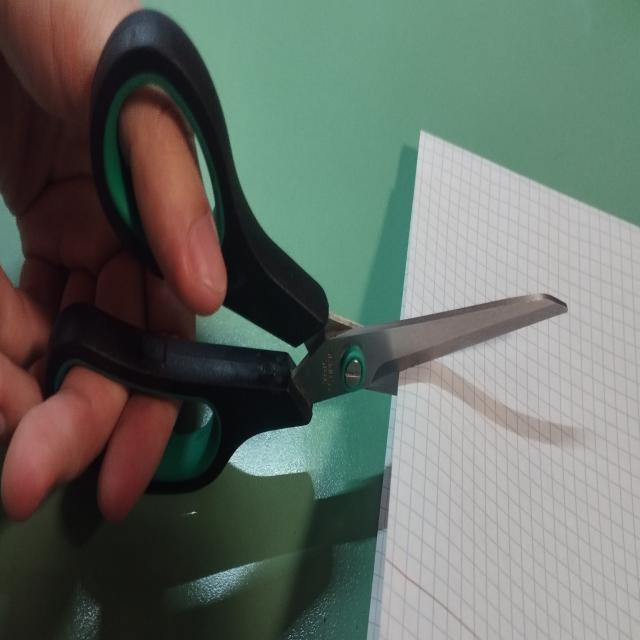tesoura: (40, 6, 572, 500)
